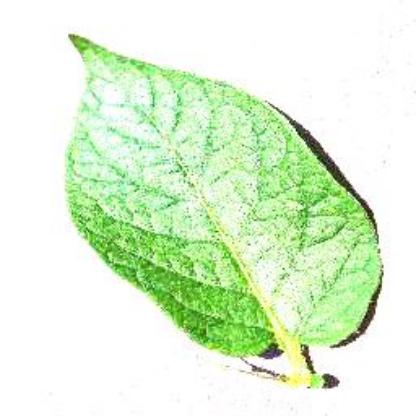Healthy-plant: (50, 19, 386, 395)
